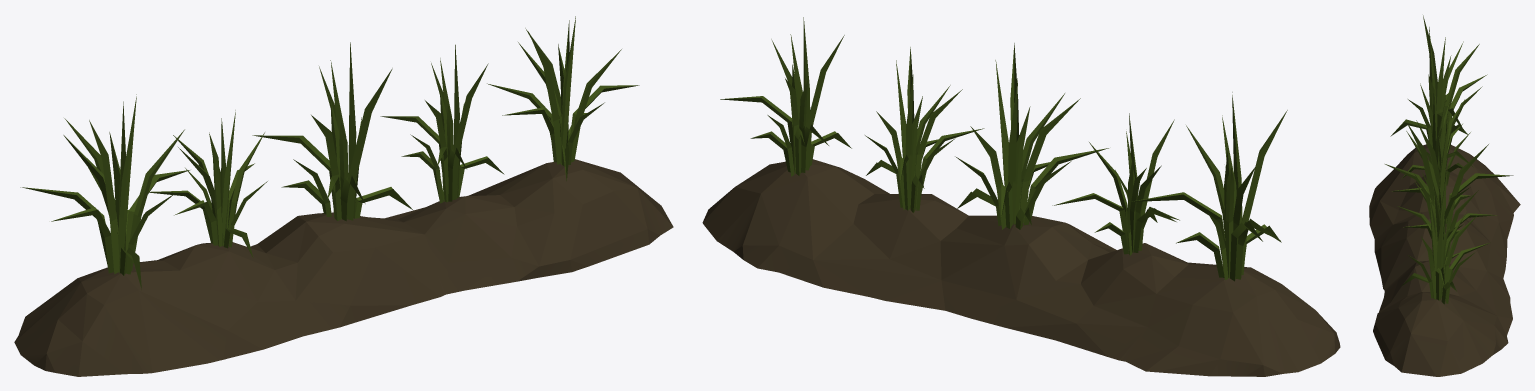
Rendered from farmland2.FBX.
3 renders of one model, left to right at view 1: azimuth 30°, elevation 25°; view 2: azimuth 150°, elevation 25°; view 3: azimuth 270°, elevation 25°, orthographic. The views are drawn at different scales.
Visible parts, largest first — view 1: farmland2; view 2: farmland2; view 3: farmland2.
Part boxes in pixels (left/top/right/bottom): farmland2: left=14, top=16, right=673, bottom=376; farmland2: left=702, top=17, right=1340, bottom=376; farmland2: left=1369, top=15, right=1520, bottom=376.
Bounding box in the file's own units: 216 × 64.02 × 79.67.
